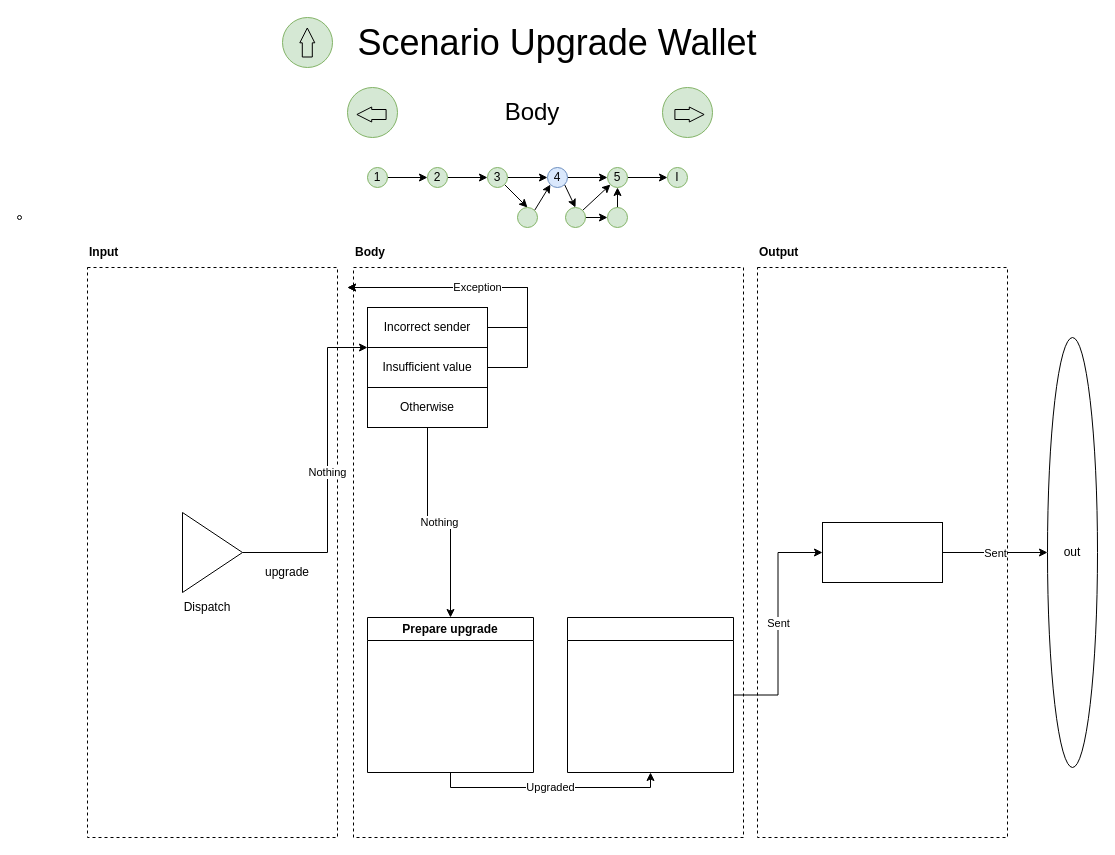
The diagram is 1115 pixels wide and 855 high, and some of its shapes have lost their labels. Each missing label, with the centre of its shape:
"autotest" goes at (x=212, y=552).
"S1" goes at (x=527, y=217).
"S2" goes at (x=617, y=217).
"Send notification" goes at (x=650, y=694).
"T1" goes at (x=575, y=217).
"Wallet prepared for upgrade" goes at (x=882, y=552).
